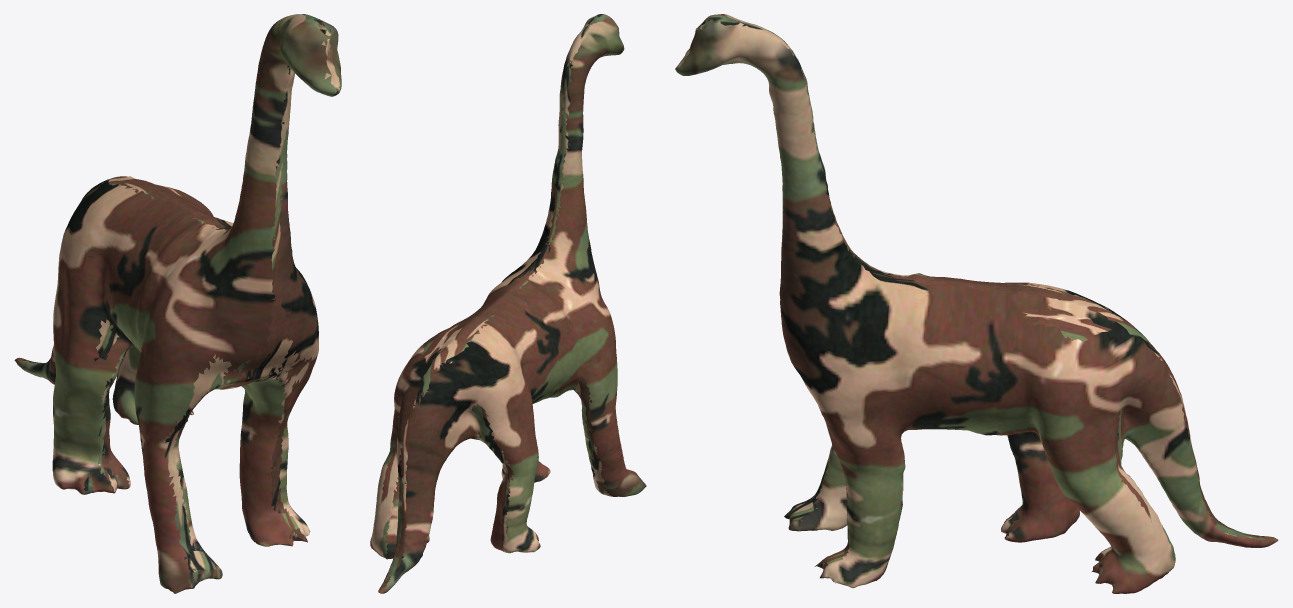
File: dino.fbx
The picture shows the model from 3 angles, left to right: view 1: azimuth 30°, elevation 25°; view 2: azimuth 150°, elevation 25°; view 3: azimuth 270°, elevation 25°; orthographic projection. The views are drawn at different scales.
Parts seen in each view (by area): view 1: convexApproximation; view 2: convexApproximation; view 3: convexApproximation.
Part boxes in pixels (x1,y1,x2,y2): convexApproximation: (14, 14, 341, 593); convexApproximation: (370, 14, 646, 593); convexApproximation: (675, 14, 1278, 593).
Bounding box in the file's own units: 207 × 595 × 593.
1 material, 1 textured.
